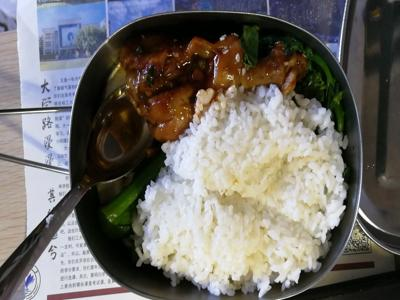rice: (192, 106, 341, 296)
